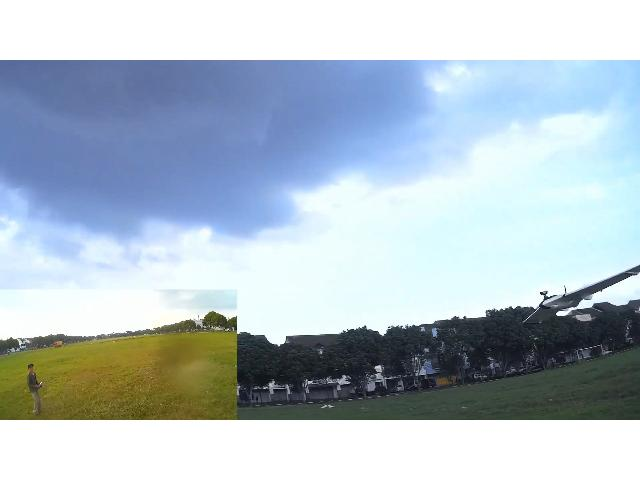Anti-Drone: (522, 265, 640, 326)
